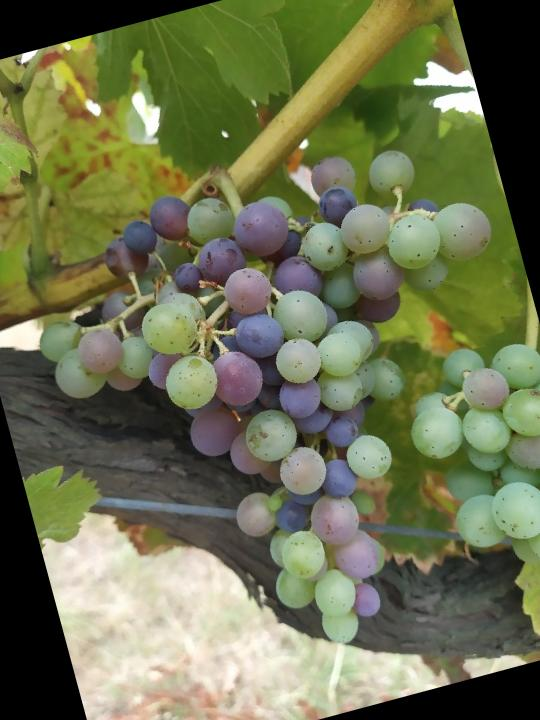grape: (5, 120, 540, 705)
